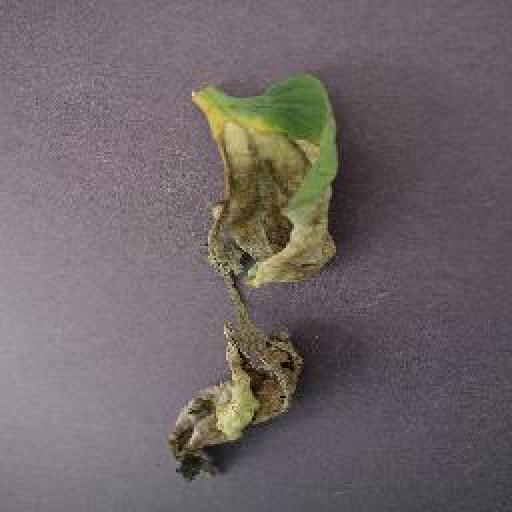Late Blight: (172, 74, 340, 486)
